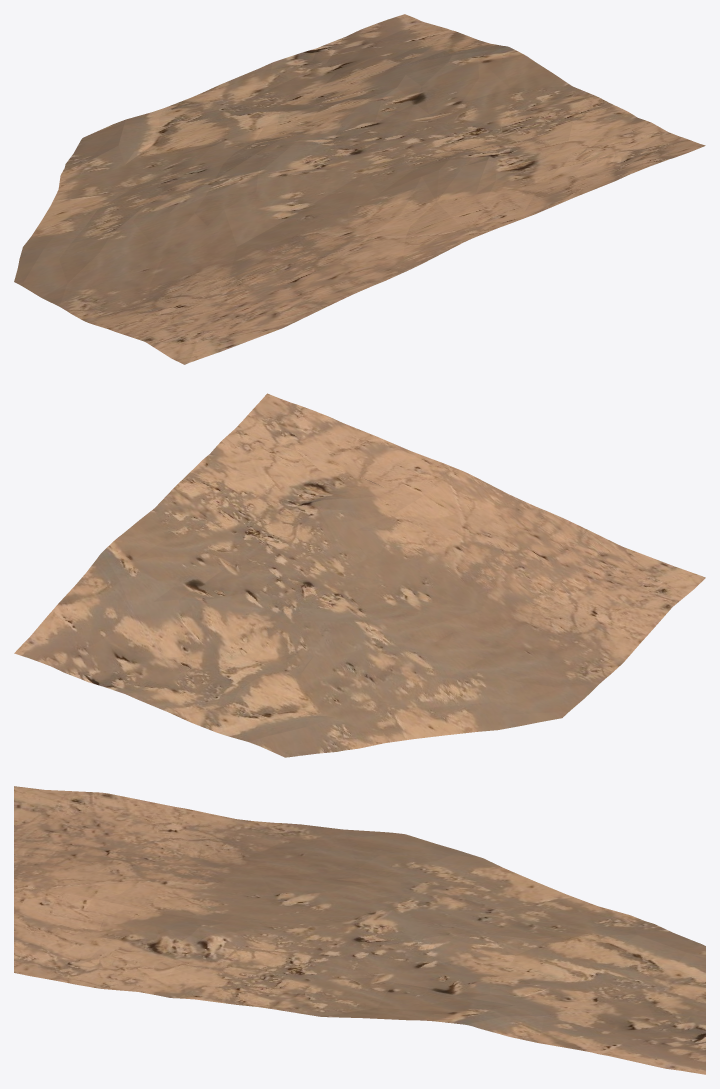
The picture shows the model from 3 angles, top to bottom: view 1: azimuth 30°, elevation 25°; view 2: azimuth 150°, elevation 25°; view 3: azimuth 270°, elevation 25°; orthographic projection. The views are drawn at different scales.
Bounding box in the file's own units: 1.04 × 0.2564 × 1.04.
Materials: 2 (2 with a texture image).
